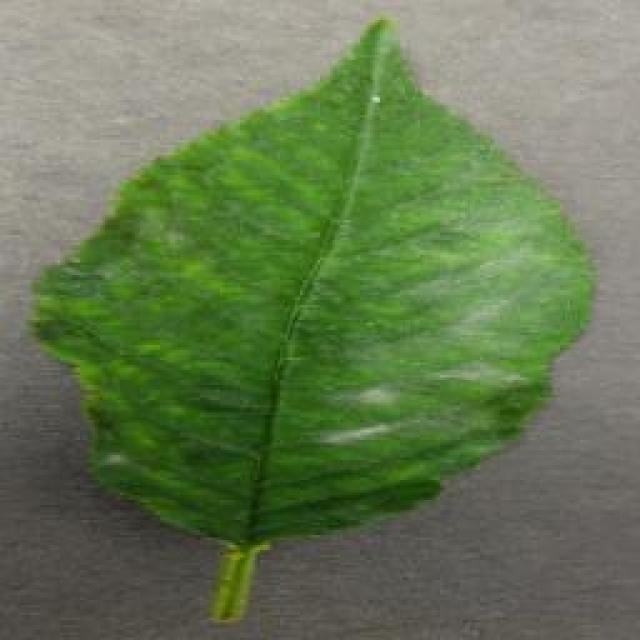Cherry___Powdery_mildew: (65, 108, 541, 480)
